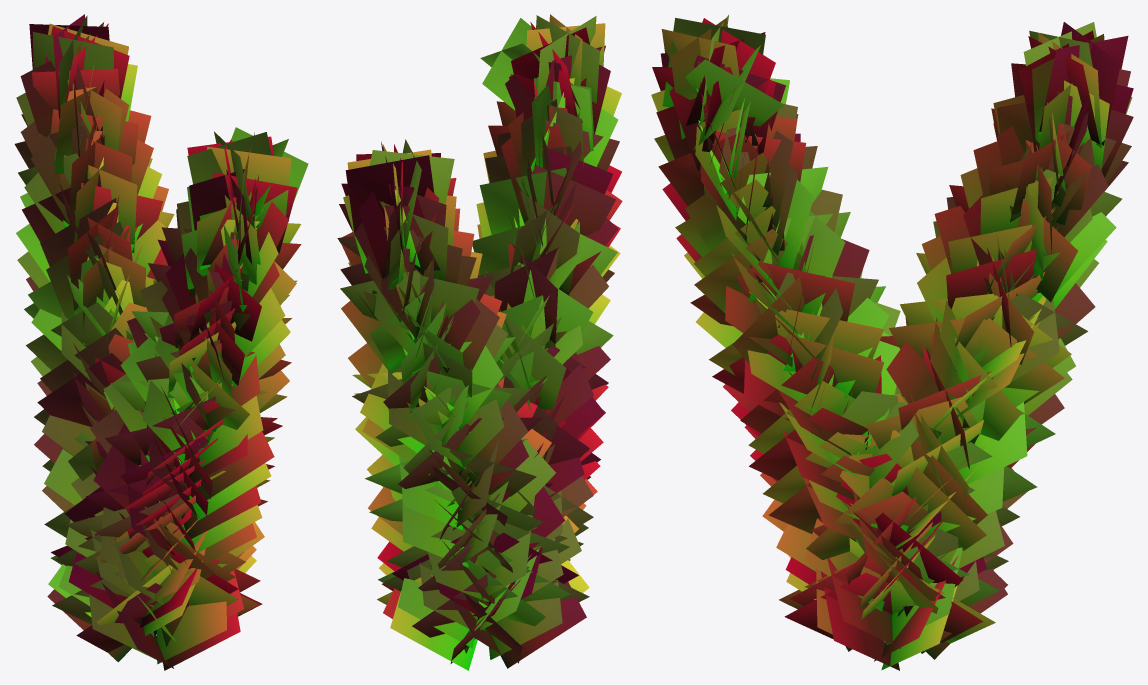
File: URP_P4_Tree_10_LOD_0.fbx
3 renders of one model, left to right at view 1: azimuth 30°, elevation 25°; view 2: azimuth 150°, elevation 25°; view 3: azimuth 270°, elevation 25°, orthographic. The views are drawn at different scales.
Visible parts, largest first — view 1: Tree_10_LOD_0; view 2: Tree_10_LOD_0; view 3: Tree_10_LOD_0.
Part boxes in pixels (x1,y1,x2,y2): Tree_10_LOD_0: (14,14,308,670); Tree_10_LOD_0: (337,14,622,670); Tree_10_LOD_0: (651,15,1133,670).
Bounding box in the file's own units: 211 × 634 × 441.
